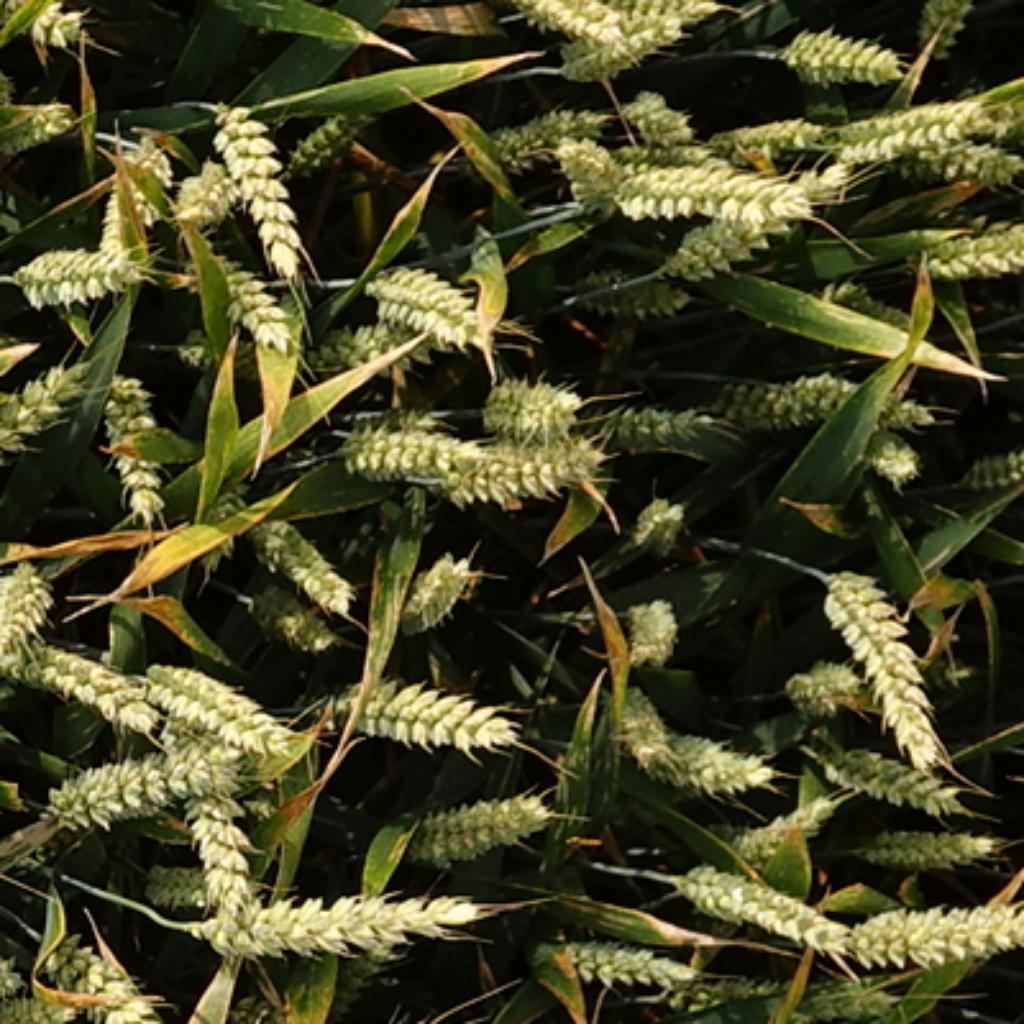0-0: (236, 870, 508, 970), (816, 552, 952, 744), (158, 742, 281, 903), (332, 657, 522, 752), (35, 737, 220, 832), (668, 849, 844, 947), (701, 363, 954, 430), (826, 84, 1013, 174), (0, 622, 156, 727), (837, 885, 1024, 972), (0, 340, 97, 506), (215, 97, 309, 268), (138, 647, 291, 752), (609, 158, 826, 230), (325, 404, 509, 488), (652, 186, 811, 279), (448, 435, 622, 514), (92, 366, 179, 519), (46, 934, 192, 1024), (399, 778, 552, 860), (238, 499, 353, 606), (181, 243, 286, 353), (360, 250, 486, 340), (94, 125, 171, 268), (7, 227, 145, 304), (814, 734, 957, 806), (547, 20, 698, 87), (637, 714, 762, 791), (773, 15, 908, 84), (552, 921, 691, 988), (560, 253, 688, 322), (903, 209, 1024, 281), (235, 570, 343, 647), (847, 816, 995, 867), (670, 970, 826, 1018), (476, 92, 588, 158), (476, 363, 583, 432), (780, 962, 898, 1024), (391, 542, 476, 627), (596, 389, 714, 450), (596, 673, 673, 760), (724, 796, 826, 860), (314, 314, 419, 376), (286, 102, 376, 174), (808, 276, 919, 332), (14, 2, 120, 60), (0, 547, 61, 647), (519, 2, 642, 51), (550, 128, 629, 204), (711, 104, 826, 156), (171, 320, 271, 376), (775, 647, 857, 711), (919, 133, 1024, 181), (0, 87, 76, 153), (619, 84, 696, 148), (174, 148, 238, 225), (852, 409, 924, 476), (622, 594, 686, 663), (947, 442, 1024, 499), (135, 849, 215, 903), (624, 486, 688, 547), (0, 977, 71, 1024), (616, 2, 734, 30), (908, 2, 980, 43), (616, 143, 732, 163), (0, 2, 10, 79)
